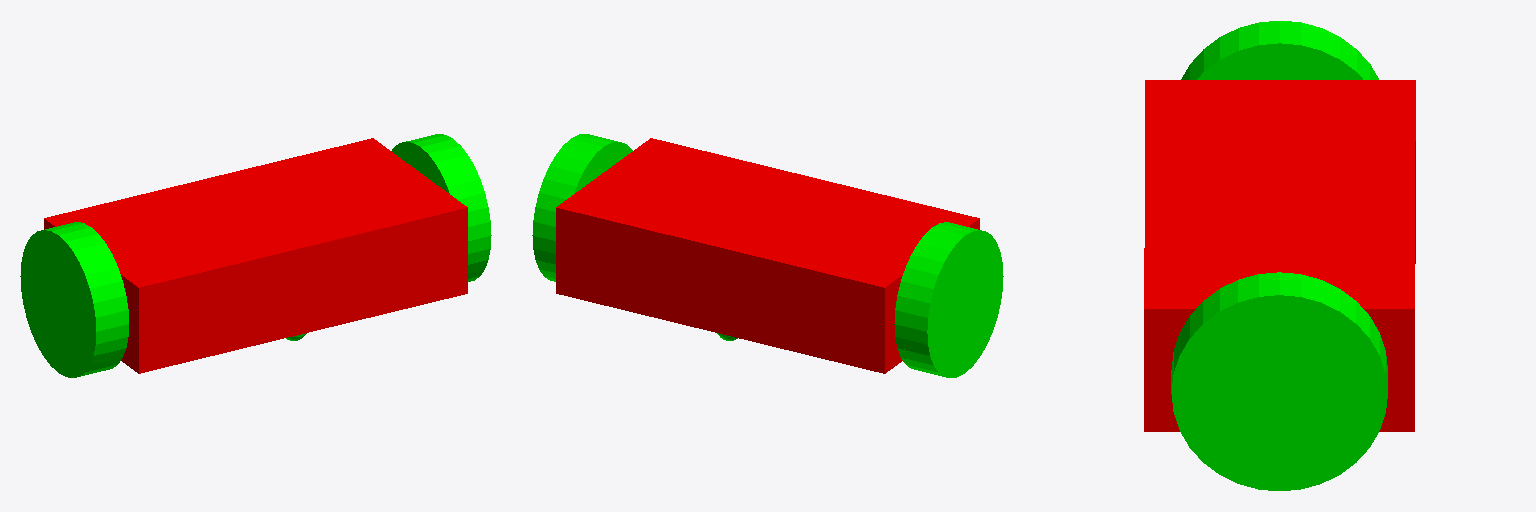
robot.urdf — bot:
<?xml version="1.0" ?>
<robot name="bot" xmlns:xacro="http://www.ros.org/wiki/xacro">

    <link name="base_footprint"/>

    <link name="base_link">
        <visual>
            <origin xyz="0.0 0.0 0.0" rpy="0.0 0.0 0.0"/>
            <geometry>
                <box size="0.1 0.2 0.05"/>
            </geometry>
            <material name="red">
                <color rgba="1.0 0.0 0.0 1.0"/>
            </material>
        </visual>
    </link>

    <joint name="base_joint" type="fixed">
        <origin xyz="0.0 0.0 0.05" rpy="0.0 0.0 1.57"/>
        <parent link="base_footprint"/>
        <child link="base_link"/>
    </joint>

    <material name="green">
        <color rgba="0.0 1.0 0.0 1.0"/>
    </material>

    <link name="right_wheel_link">
        <visual>
            <origin xyz="0.0 0.0 0.0" rpy="1.57 0.0 0.0"/>
            <geometry>
                <cylinder radius="0.04" length="0.02"/>
            </geometry>
            <material name="green"/>
        </visual>
    </link>

    <joint name="right_wheel_joint" type="fixed">
        <origin xyz="0.0 -0.11 0.0" rpy="0.0 0.0 0.0"/>
        <parent link="base_link"/>
        <child link="right_wheel_link"/>
    </joint>

    <link name="left_wheel_link">
        <visual>
            <origin xyz="0.0 0.0 0.0" rpy="1.57 0.0 0.0"/>
            <geometry>
                <cylinder radius="0.04" length="0.02"/>
            </geometry>
            <material name="green"/>
        </visual>
    </link>

    <joint name="left_wheel_joint" type="fixed">
        <origin xyz="0.0 0.11 0.0" rpy="0.0 0.0 0.0"/>
        <parent link="base_link"/>
        <child link="left_wheel_link"/>
    </joint>

    <link name="front_castor_link">
        <visual>
            <origin xyz="0.0 0.0 0.0" rpy="0.0 0.0 0.0"/>
            <geometry>
                <sphere radius="0.0075"/>
            </geometry>
            <material name="green"/>
        </visual>
    </link>

    <joint name="front_castor_joint" type="fixed">
        <origin xyz="0.04 0.0 -0.025" rpy="0.0 0.0 0.0"/>
        <parent link="base_link"/>
        <child link="front_castor_link"/>
    </joint>

    <link name="rear_castor_link">
        <visual>
            <origin xyz="0.0 0.0 0.0" rpy="0.0 0.0 0.0"/>
            <geometry>
                <sphere radius="0.0075"/>
            </geometry>
            <material name="green"/>
        </visual>
    </link>

    <joint name="rear_castor_joint" type="fixed">
        <origin xyz="-0.04 0.0 -0.025" rpy="0.0 0.0 0.0"/>
        <parent link="base_link"/>
        <child link="rear_castor_link"/>
    </joint>

</robot>

--- Facts derived from the render (not from the file) ---
Views: 3 orthographic renders of the robot side by side, from view 1: azimuth 30°, elevation 25°; view 2: azimuth 150°, elevation 25°; view 3: azimuth 270°, elevation 25°.
Robot: bot — 6 links, 5 joints (5 fixed); root link base_footprint; default pose: all joints at 0.
Links seen in each view (by area): view 1: base_link, left_wheel_link, right_wheel_link; view 2: base_link, left_wheel_link, right_wheel_link; view 3: base_link, right_wheel_link, left_wheel_link.
Link boxes in pixels (bbox=[...]): base_link: bbox=[44, 138, 467, 373]; left_wheel_link: bbox=[20, 222, 128, 377]; right_wheel_link: bbox=[391, 134, 491, 281]; base_link: bbox=[556, 138, 979, 373]; left_wheel_link: bbox=[894, 222, 1003, 377]; right_wheel_link: bbox=[532, 134, 632, 281]; base_link: bbox=[1144, 80, 1415, 431]; right_wheel_link: bbox=[1171, 272, 1387, 490]; left_wheel_link: bbox=[1181, 21, 1378, 79].
Size in the robot's own frame: 0.2401 by 0.1002 by 0.08 metres.
Geometry: primitives only (box / cylinder / sphere), no mesh files.
